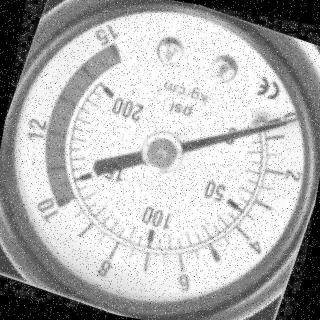gauge: (0, 0, 320, 320), (136, 127, 187, 179), (253, 97, 301, 141), (92, 31, 136, 78), (284, 113, 300, 128)
